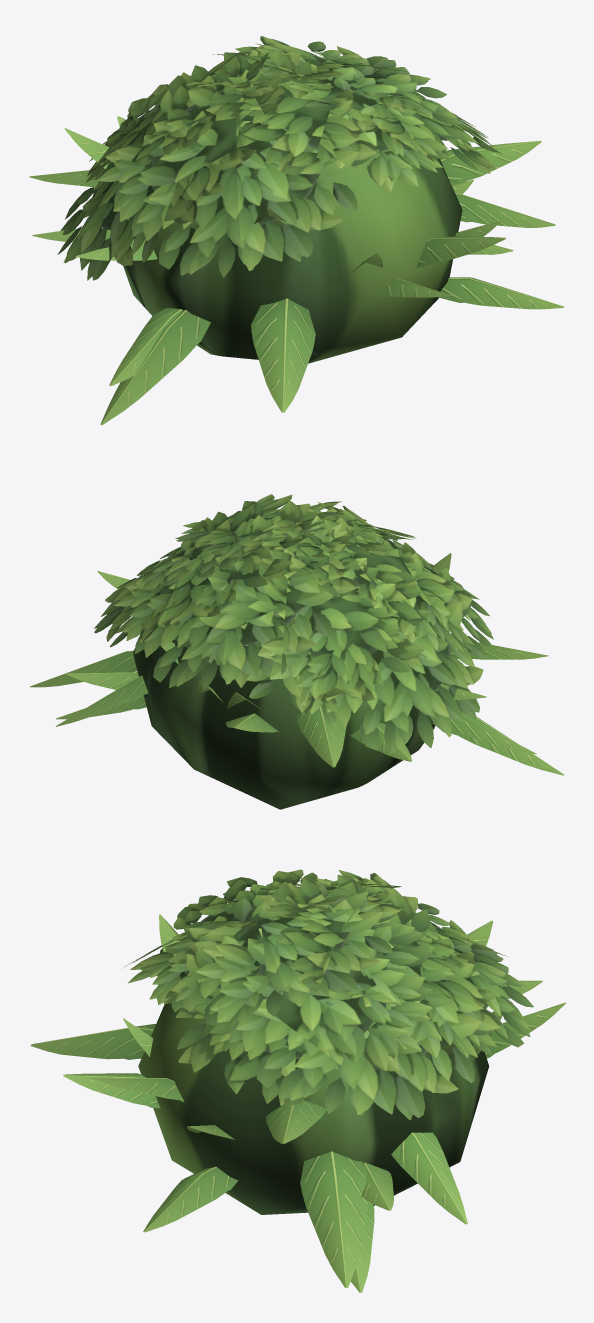
Rendered from shrub_a.glb.
3 views of the same model, one above another, from view 1: azimuth 30°, elevation 25°; view 2: azimuth 150°, elevation 25°; view 3: azimuth 270°, elevation 25° (orthographic). The views are drawn at different scales.
Visible parts, largest first — view 1: shrub_a_mesh; view 2: shrub_a_mesh; view 3: shrub_a_mesh.
Boxes of the visible parts, x1=… form: shrub_a_mesh: x1=29, y1=36, x2=564, y2=425; shrub_a_mesh: x1=30, y1=494, x2=563, y2=809; shrub_a_mesh: x1=30, y1=869, x2=565, y2=1292.
Bounding box in the file's own units: 1.1 × 0.6046 × 0.9319.
1 material, 1 textured.
